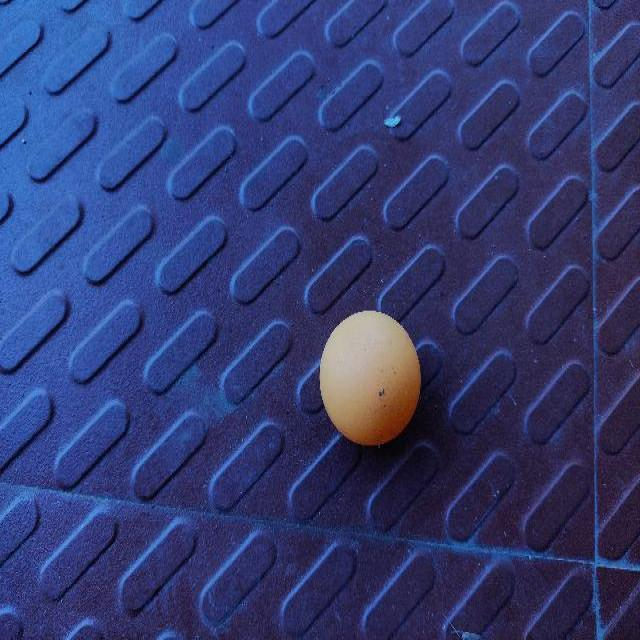oball: (316, 310, 418, 444)
